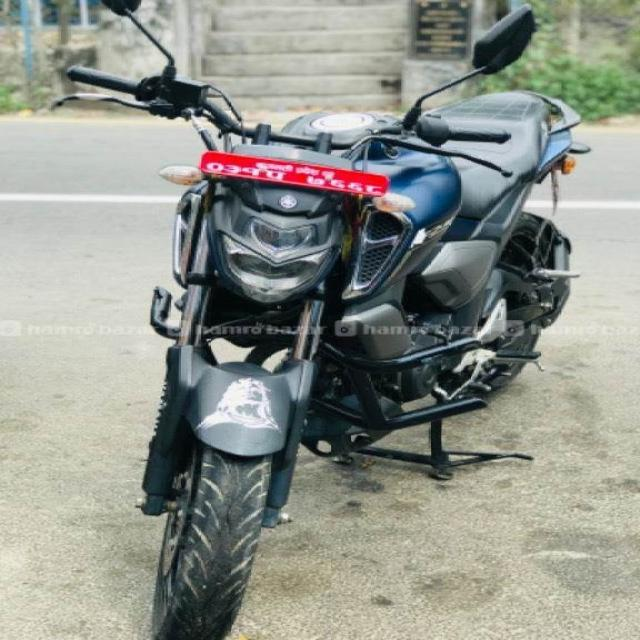License-plate: (202, 145, 402, 200)
